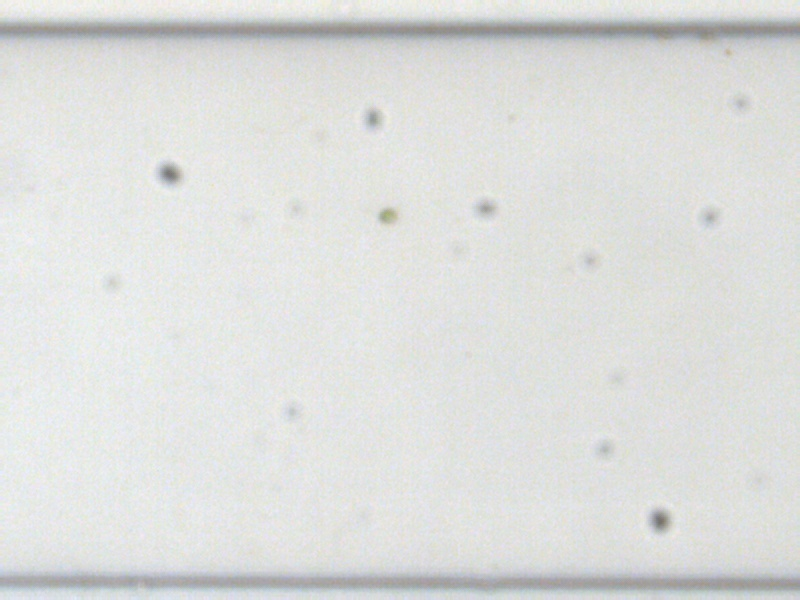Chlorella: (379, 206, 400, 223), (721, 46, 734, 54)
